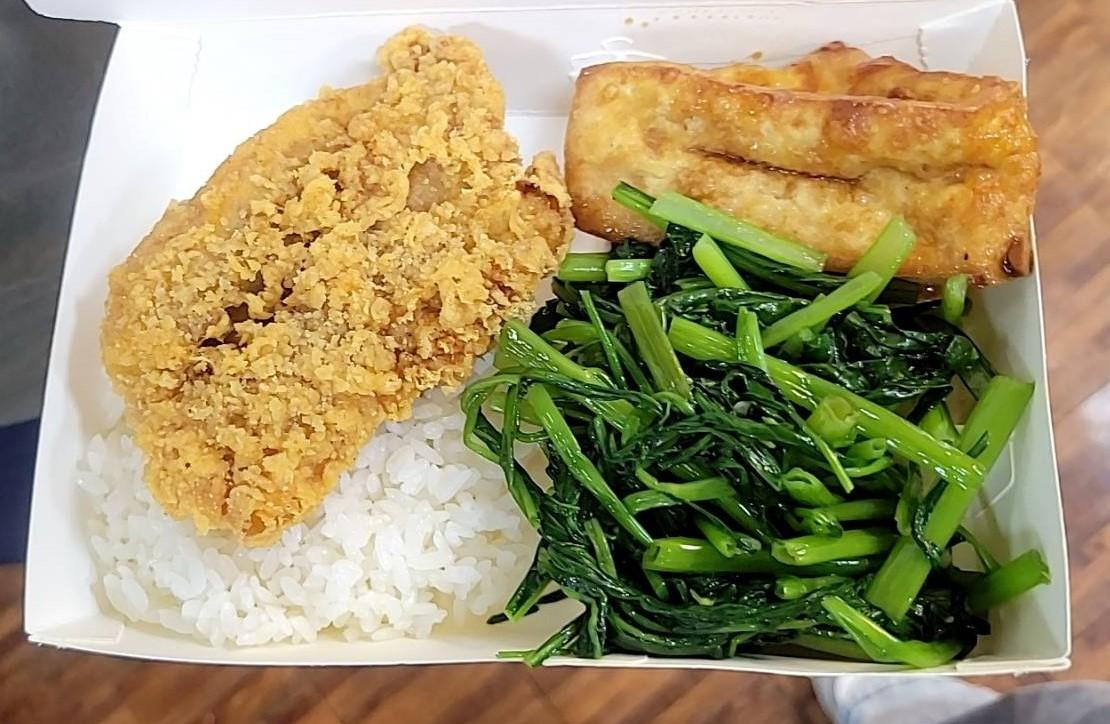big grilled chicken leg: (20, 17, 1082, 682)
big herbal chicken leg: (95, 299, 548, 639)
braised fish fillet: (492, 243, 1025, 664), (558, 36, 1052, 269)
braised pork: (115, 21, 565, 537)
